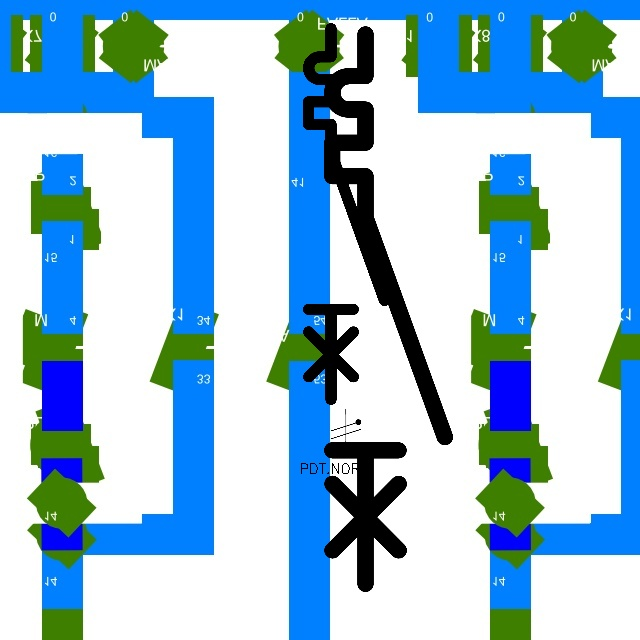interruptor_termomagnetico: (318, 20, 459, 598), (299, 19, 394, 409)
